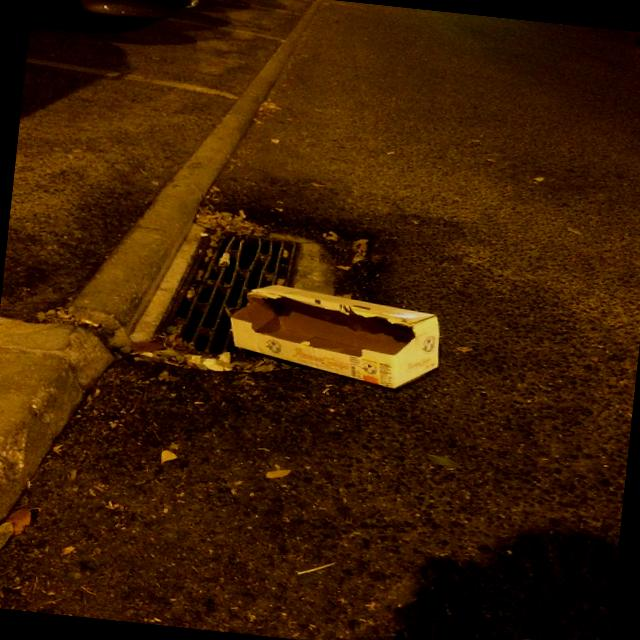Recycle: (220, 278, 452, 396)
